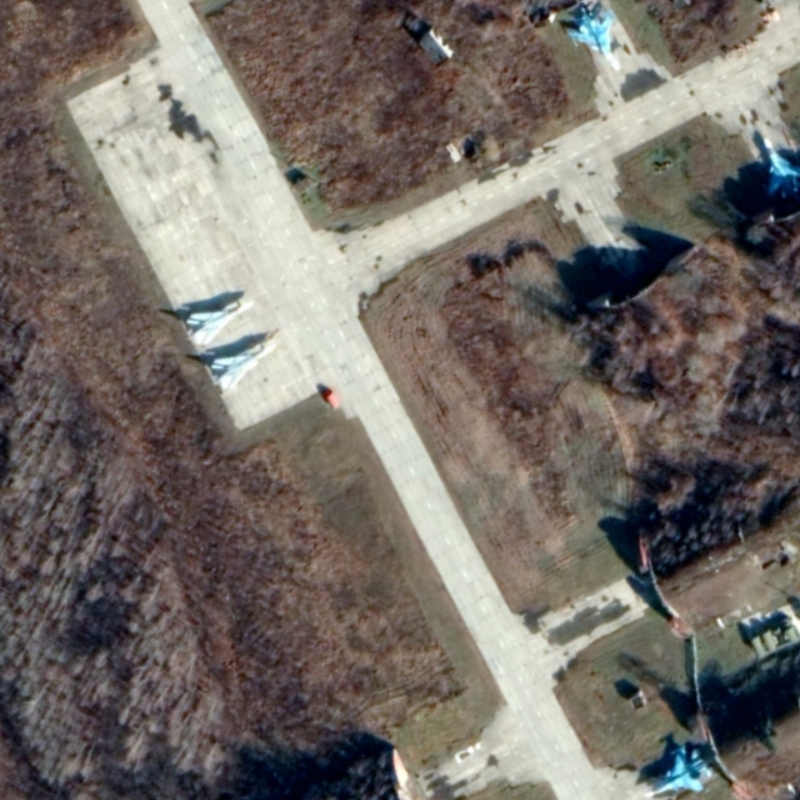A19: (640, 744, 717, 799), (565, 5, 624, 73), (762, 136, 800, 201)
A20: (209, 340, 280, 394), (184, 298, 257, 347)
